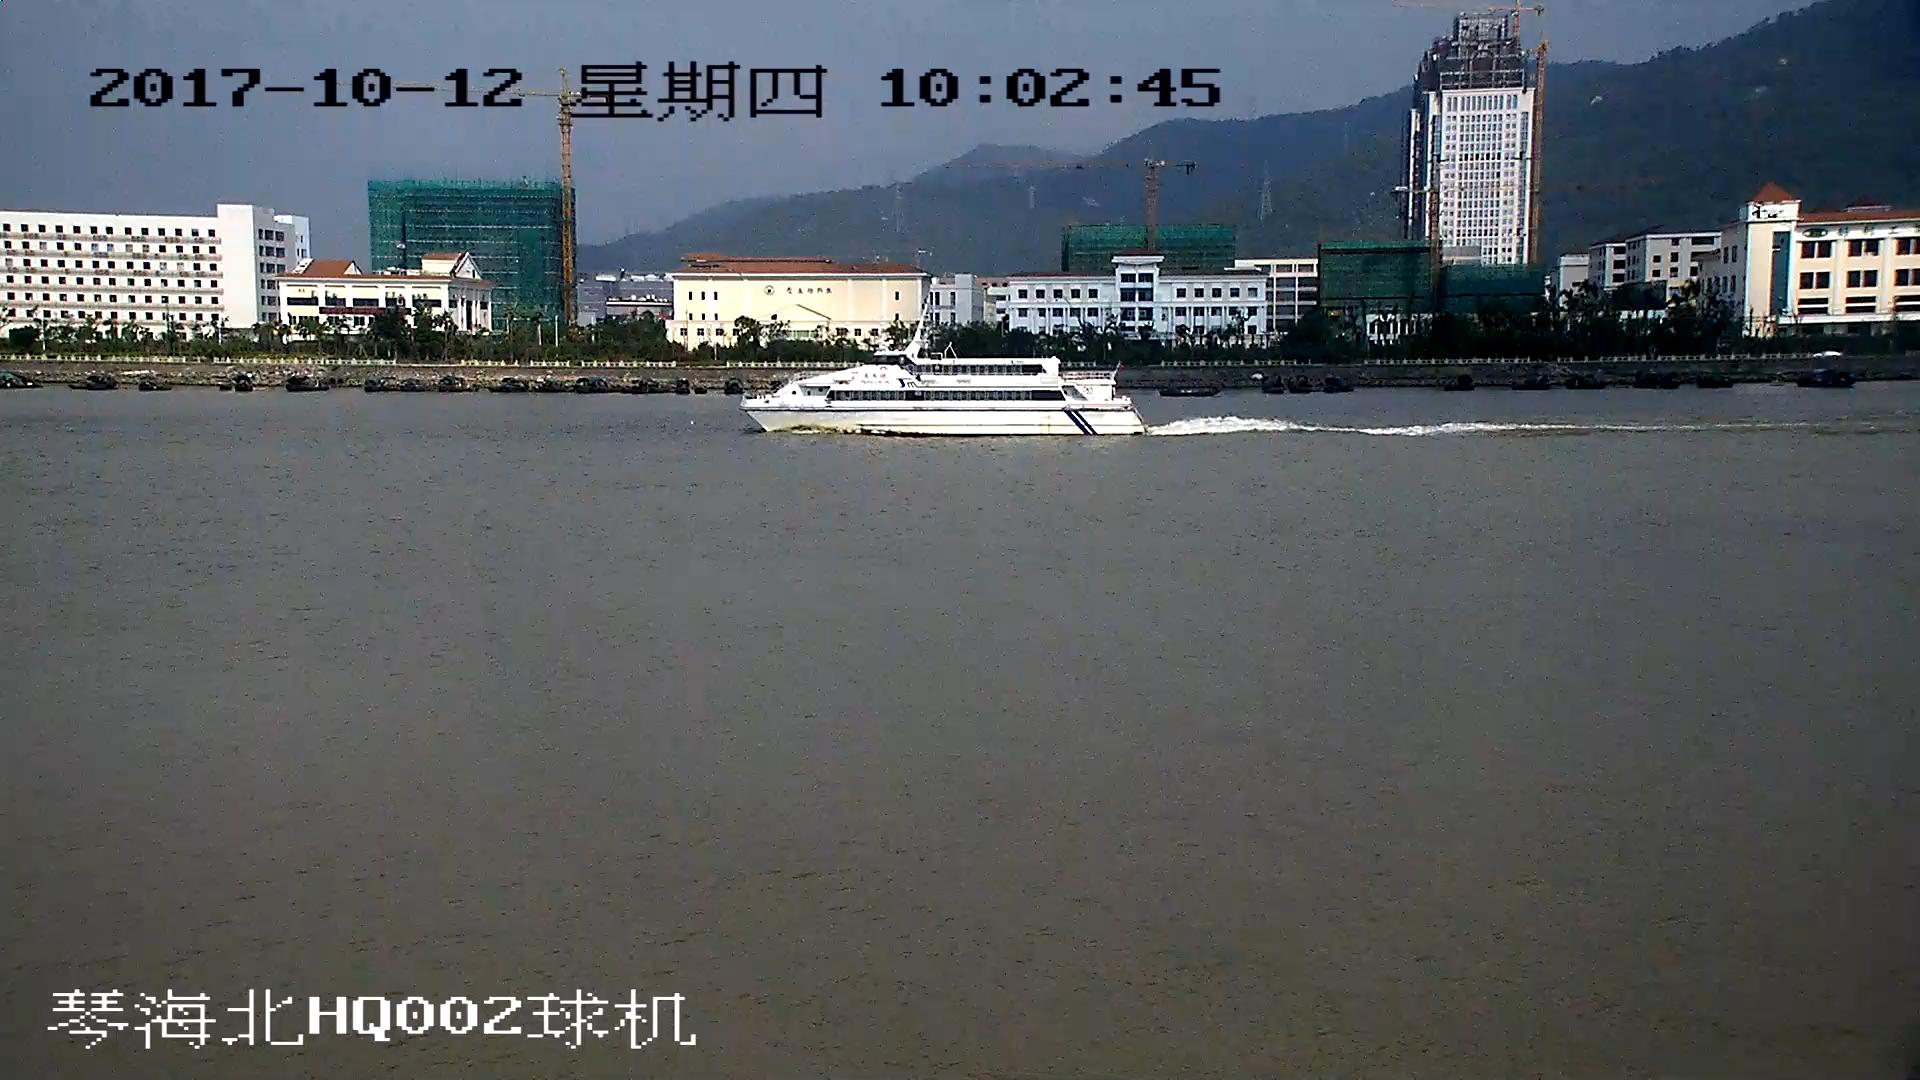passenger ship: (748, 306, 1151, 439)
